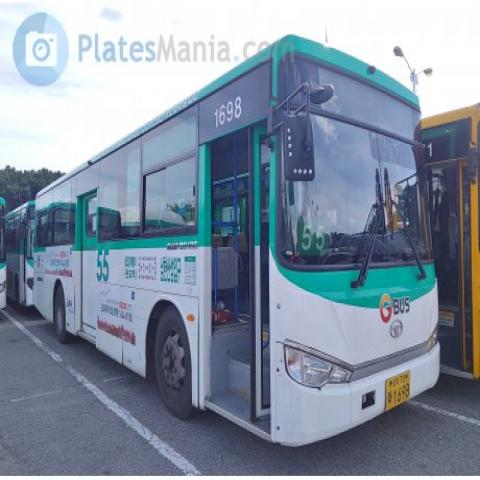LP: (376, 362, 422, 416)
